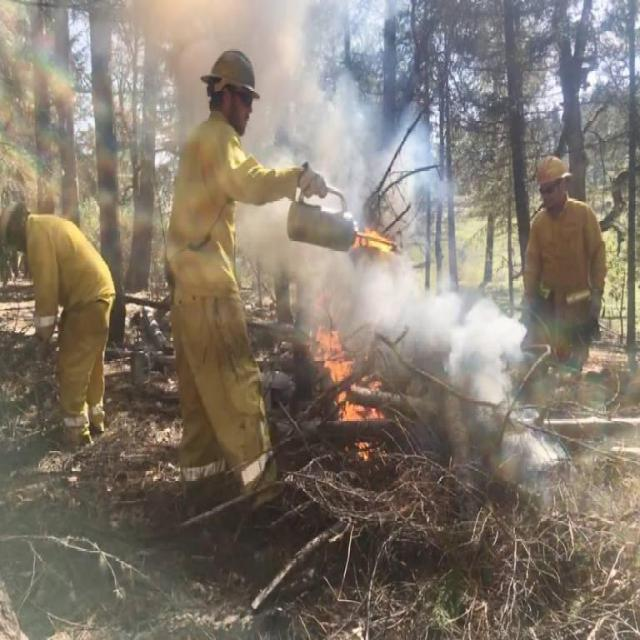Fire: (301, 308, 395, 454), (359, 222, 395, 256)
